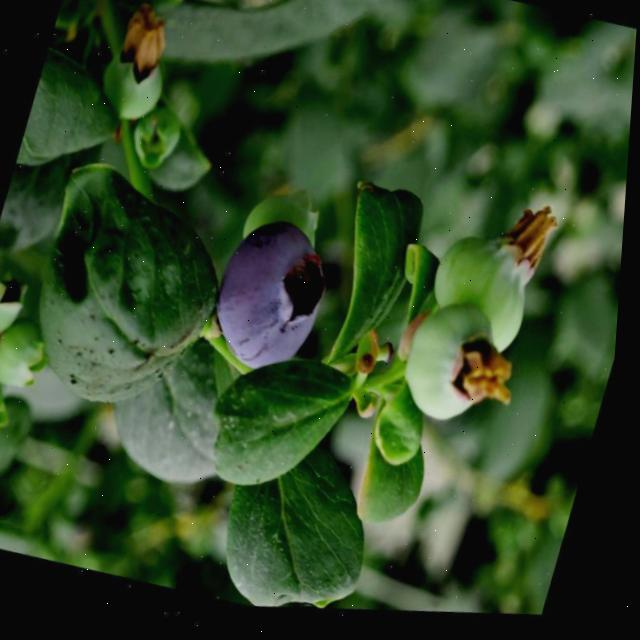RipeBlueBerry: (199, 213, 347, 397)
UnripeBlueBerry: (419, 219, 551, 366), (396, 297, 514, 440)
